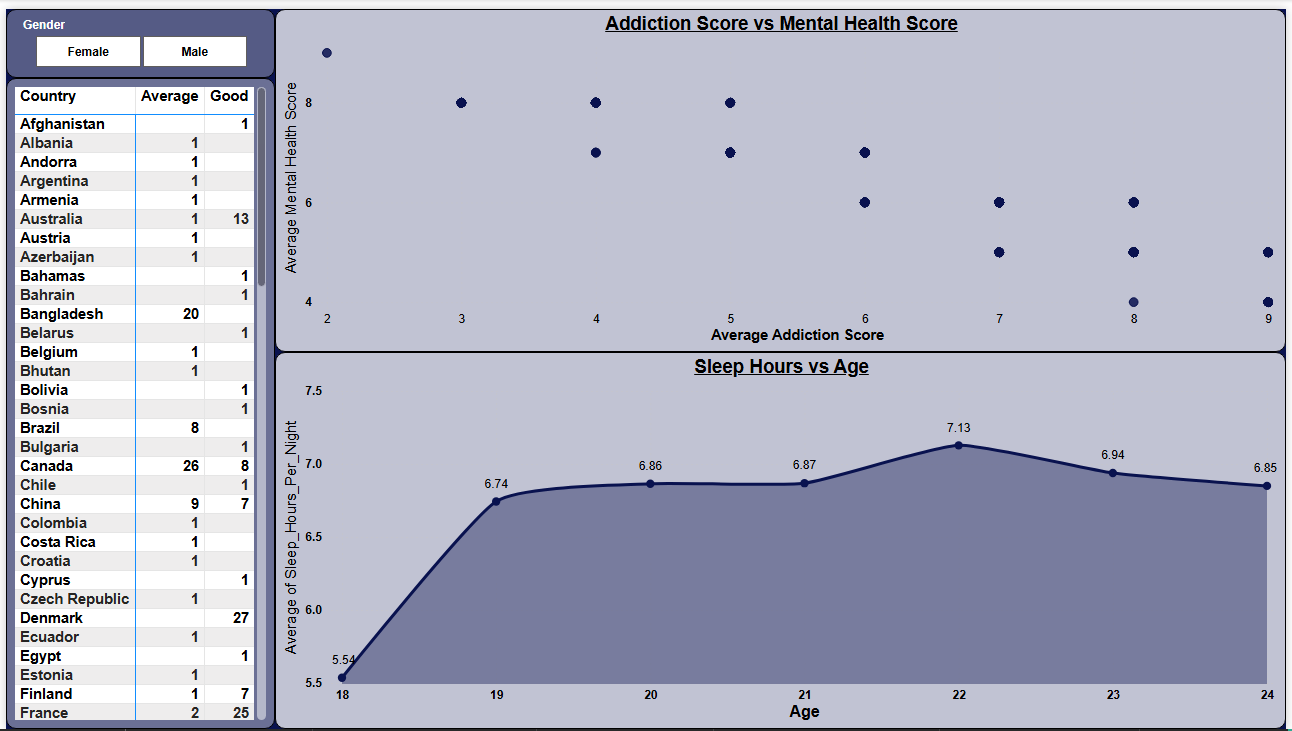

Layout of this report page (visuals, bound fields, positions):
{"tool":"powerbi","page":{"name":"Page 2 : Mental Health & Lifestyle ","canvas":[1280,720],"ordinal":1},"visuals":[{"type":"pivotTable","fields":{"Rows":["Student Details.Country"],"Columns":["Student Details.Health Band"],"Values":["CountNonNull(Student Details.Health Band)"]},"box":[0,68.8,269,651.5],"z":0},{"type":"scatterChart","title":"Addiction Score vs Mental Health Score","fields":{"X":["Avg(Student Details.Addicted_Score)"],"Y":["Avg(Student Details.Mental_Health_Score)"],"Category":["Platform Details.Student_ID"]},"box":[269,0,1011,342.9],"z":1000},{"type":"lineChart","title":"Sleep Hours vs Age","fields":{"Category":["Student Details.Age"],"Y":["Avg(Student Details.Sleep_Hours_Per_Night)"]},"box":[269,343,1011,377],"z":2000},{"type":"slicer","fields":{"Values":["Student Details.Gender"]},"box":[0,0,269,68.8],"z":3000}]}

Visuals, with their boxes in screenshot pixels (x1, y1, x2, y2), scaled from the page's 1280x720 canvas onto the 1292x731 screenshot:
pivotTable - Student Details.Country x Student Details.Health Band: bbox=[0, 70, 272, 730]
"Addiction Score vs Mental Health Score" scatterChart: bbox=[272, 0, 1291, 348]
"Sleep Hours vs Age" lineChart: bbox=[272, 348, 1291, 730]
slicer - Student Details.Gender: bbox=[0, 0, 272, 70]
